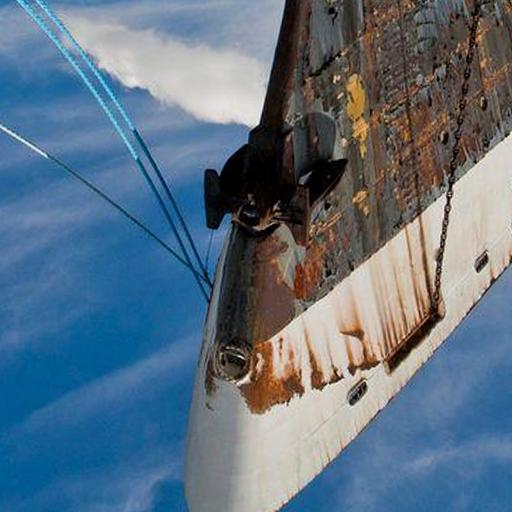rust: (363, 10, 506, 199), (232, 338, 402, 410), (371, 216, 447, 345), (226, 220, 296, 336), (269, 2, 318, 151), (302, 229, 338, 313), (342, 71, 369, 181), (197, 354, 221, 410)
